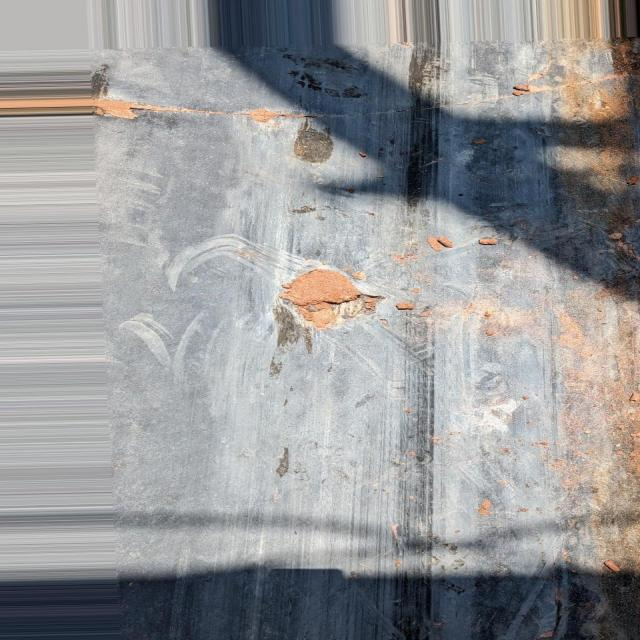impact damage: (546, 51, 640, 640)
